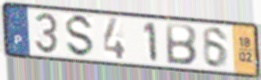1: (142, 21, 160, 63)
3: (31, 11, 60, 55)
4: (102, 16, 127, 62)
6: (201, 26, 230, 69)
B: (165, 21, 199, 68)
S: (64, 13, 96, 59)
